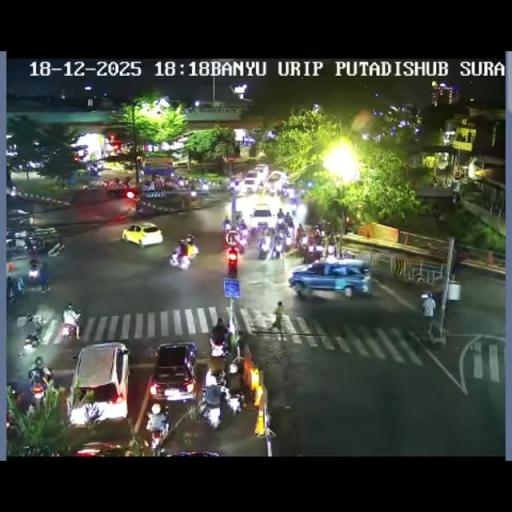Car: (67, 342, 130, 424), (287, 259, 371, 300), (148, 342, 198, 404), (121, 222, 162, 246), (72, 440, 124, 455), (250, 203, 274, 230), (266, 170, 287, 190), (106, 184, 136, 198), (242, 176, 261, 194), (253, 163, 269, 179)
Motorcycle: (198, 384, 226, 428), (5, 381, 23, 424), (26, 374, 48, 408), (420, 290, 437, 334), (258, 231, 284, 259), (56, 313, 80, 343), (18, 330, 43, 358), (146, 422, 168, 451), (203, 365, 227, 390), (207, 332, 230, 358), (225, 387, 244, 416), (268, 302, 286, 332), (168, 248, 192, 270), (136, 198, 162, 218), (306, 239, 324, 261), (18, 312, 42, 328), (38, 260, 50, 292), (185, 192, 203, 210), (27, 262, 40, 285), (185, 235, 198, 258), (297, 236, 308, 258), (227, 178, 241, 194), (280, 232, 291, 251), (6, 282, 15, 304), (25, 236, 37, 252), (338, 247, 354, 259), (236, 235, 246, 254), (288, 200, 298, 218), (326, 240, 336, 258), (313, 225, 324, 240), (87, 165, 102, 176), (430, 204, 441, 219), (276, 217, 286, 232), (6, 237, 16, 251), (227, 362, 238, 374), (222, 222, 232, 235), (286, 187, 296, 200), (234, 210, 244, 223), (452, 191, 461, 205), (284, 218, 294, 230), (143, 180, 151, 191), (123, 176, 131, 187), (201, 180, 209, 190), (177, 176, 185, 186), (102, 178, 110, 187), (189, 181, 195, 191), (114, 178, 120, 187), (82, 184, 88, 190)
